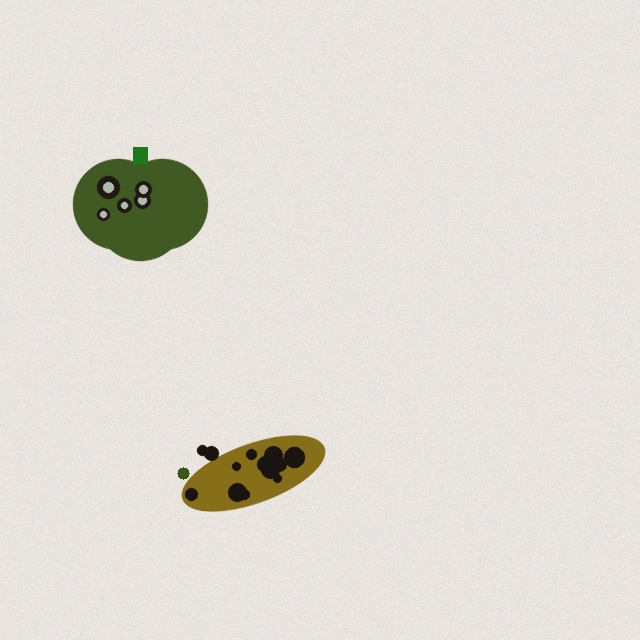Rotten banana: (175, 437, 331, 509)
Rotten bell pepper: (73, 147, 207, 260)
